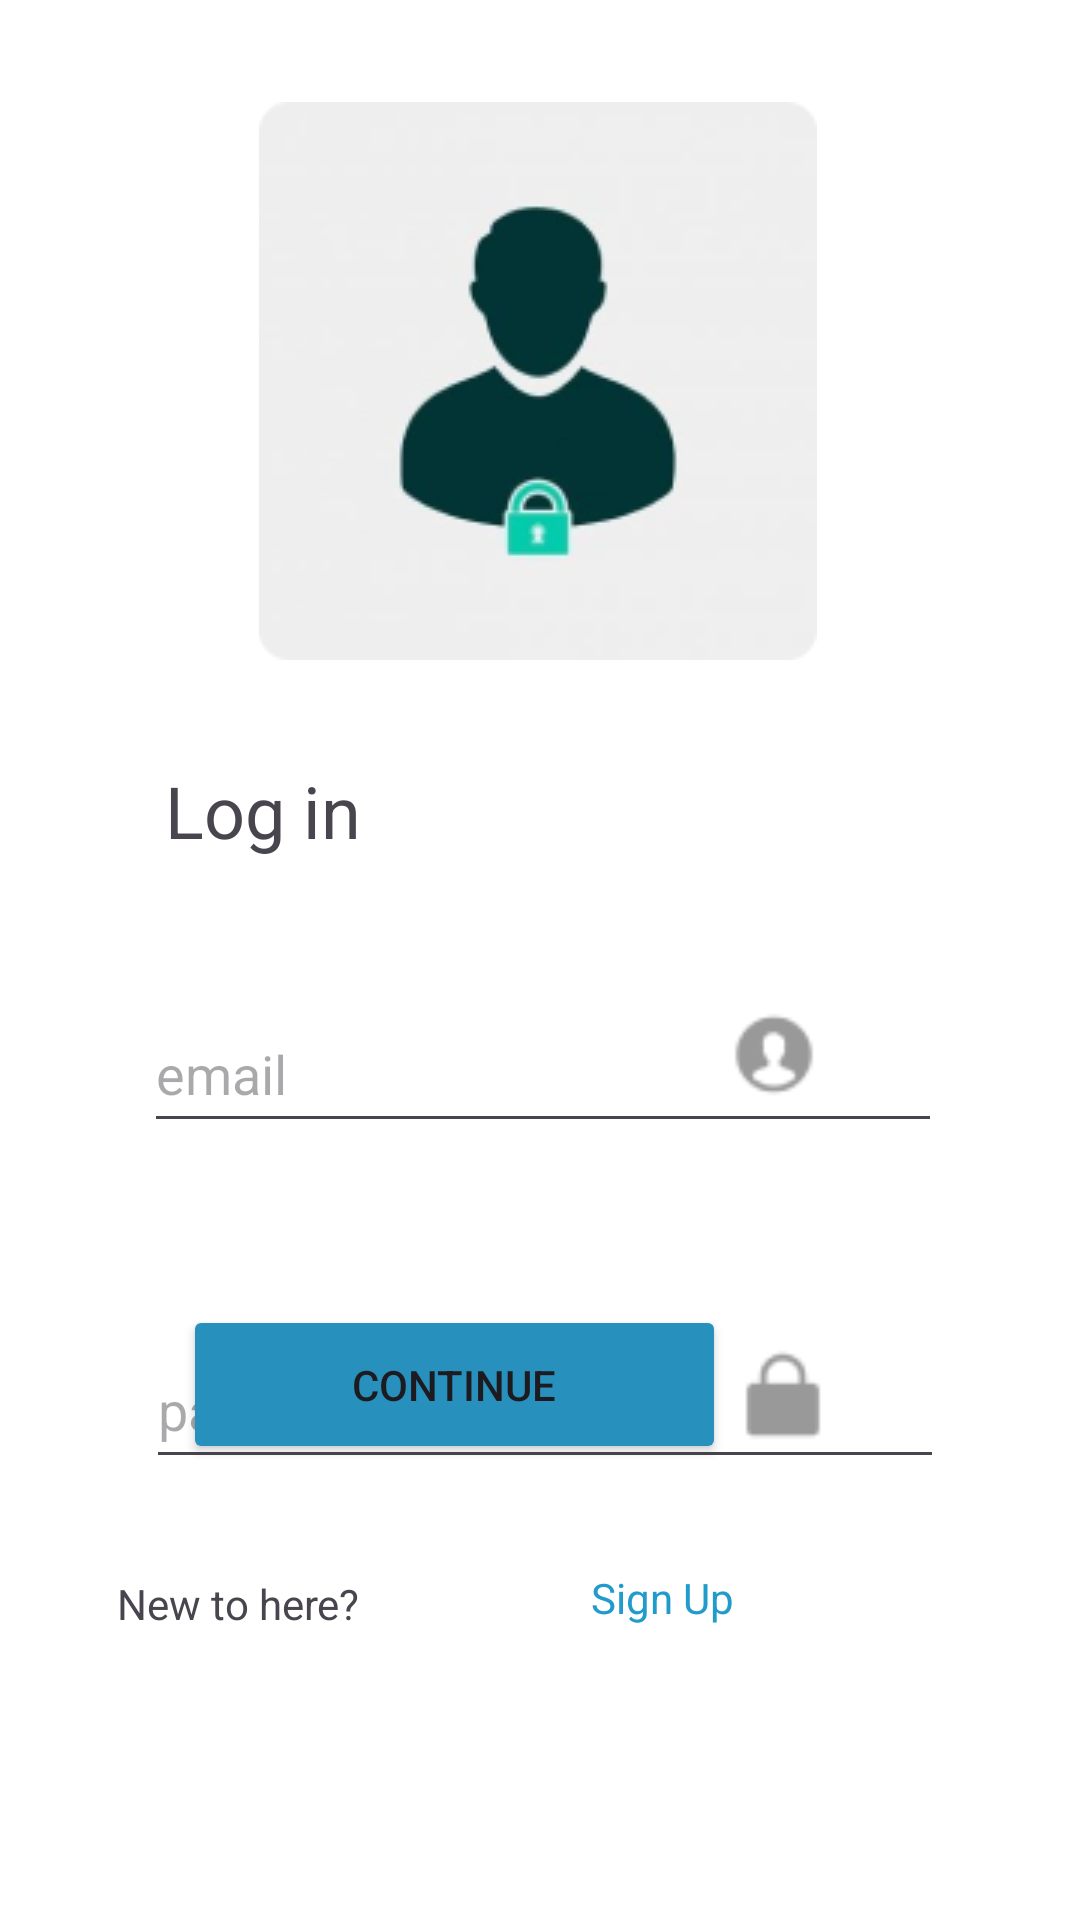

Icon bounding boxes for this 1080px×1920px phone screenshot, format (x1, y1, x2, y2):
user: (735, 1016, 813, 1093)
